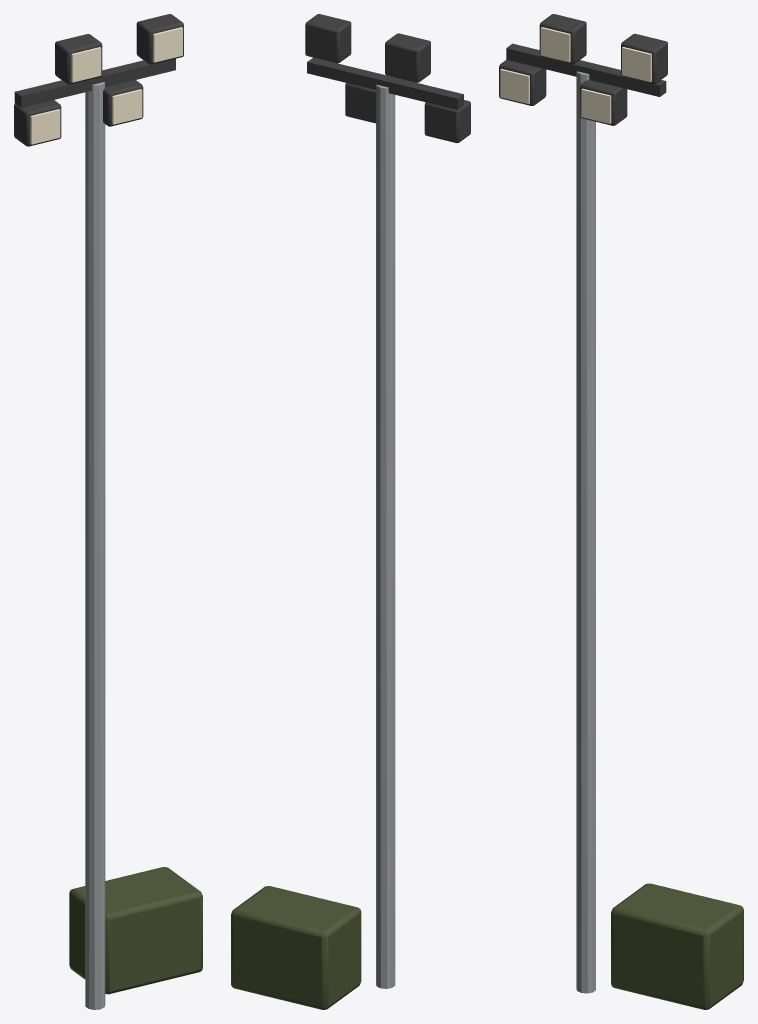
Rendered from Prop_Floodlight.fbx.
The picture shows the model from 3 angles, left to right: view 1: azimuth 30°, elevation 25°; view 2: azimuth 150°, elevation 25°; view 3: azimuth 330°, elevation 25°; orthographic projection. The views are drawn at different scales.
Parts seen in each view (by area): view 1: Prop_Floodlight_Mesh; view 2: Prop_Floodlight_Mesh; view 3: Prop_Floodlight_Mesh.
Boxes of the visible parts, x1,y1,x2,y2 form: Prop_Floodlight_Mesh: [14, 14, 202, 1009]; Prop_Floodlight_Mesh: [231, 14, 470, 1009]; Prop_Floodlight_Mesh: [499, 14, 743, 1009].
Size of the model in its own units: 1.76 by 8.4 by 0.88.
